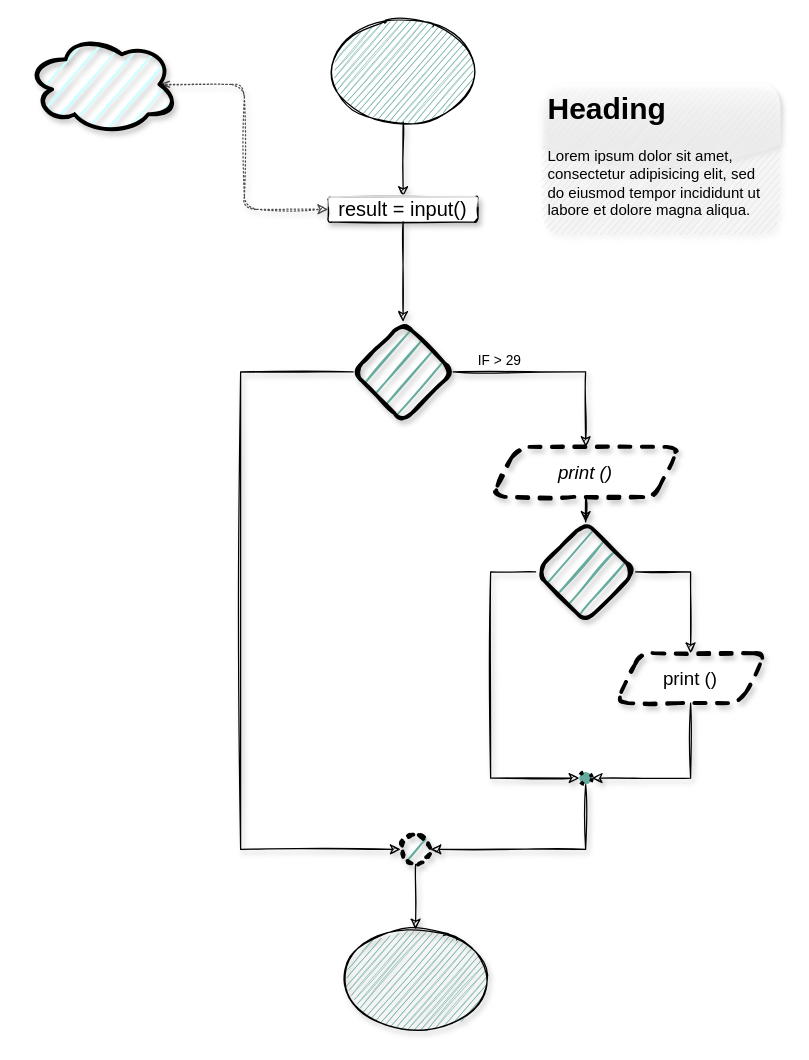
The diagram is 809 pixels wide and 1060 high, and some of its shapes have lost their labels. The shapes that lost their labels are listed below. From the top down, each one's centre as x and y in pixels, then its label:
At (402,71): "START".
At (416,980): "END".
